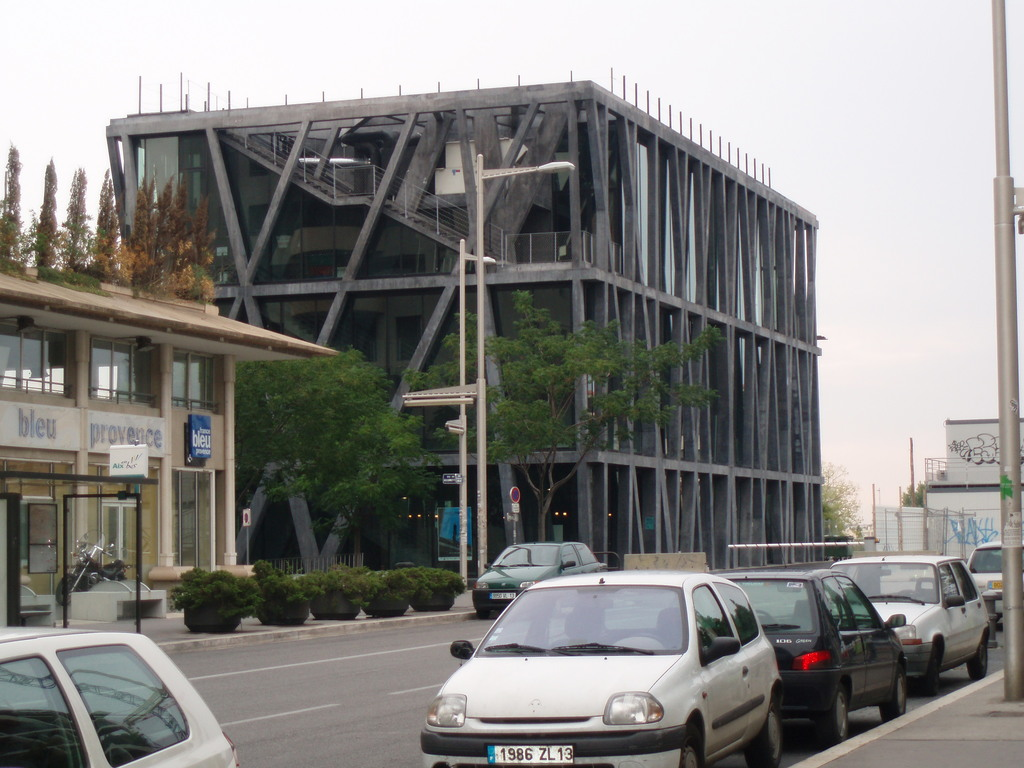Car: (417, 570, 781, 767), (0, 623, 236, 767), (718, 563, 905, 739), (839, 553, 990, 675), (474, 540, 606, 620), (966, 540, 1008, 623)
